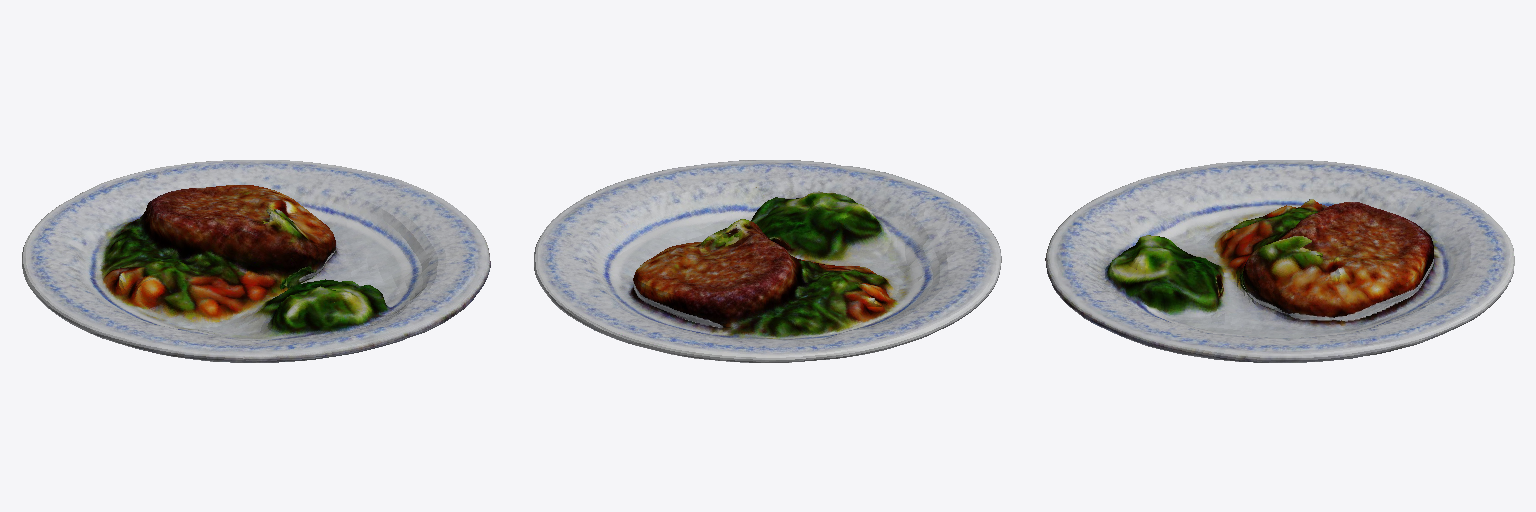
The picture shows the model from 3 angles: view 1: azimuth 30°, elevation 25°; view 2: azimuth 150°, elevation 25°; view 3: azimuth 270°, elevation 25°; orthographic projection.
Visible parts, largest first — view 1: mesh; view 2: mesh; view 3: mesh.
Part boxes in pixels (left/top/right/bottom): mesh: left=22, top=160, right=490, bottom=362; mesh: left=534, top=160, right=1001, bottom=362; mesh: left=1045, top=160, right=1514, bottom=362.
Bounding box in the file's own units: 0.9957 × 0.1506 × 0.9987.
1 materials, 1 textured.